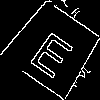E: (28, 23, 81, 80)
